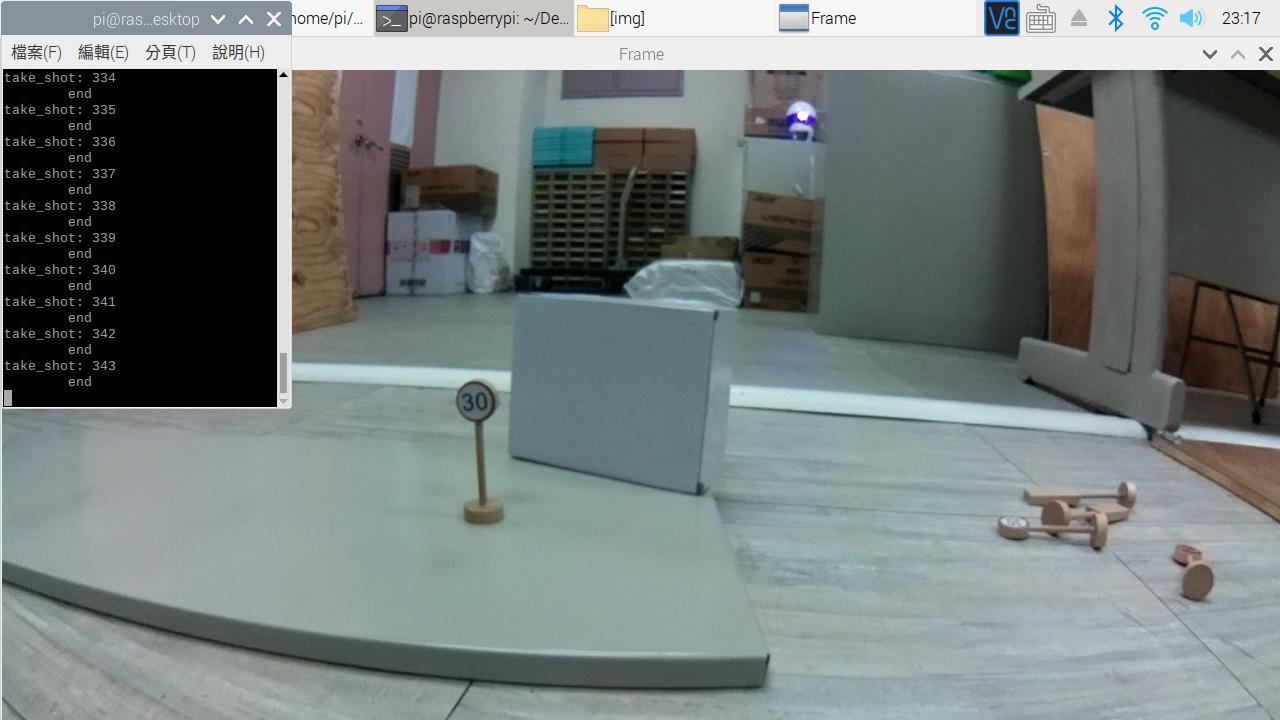Speed30: (451, 375, 508, 438)
